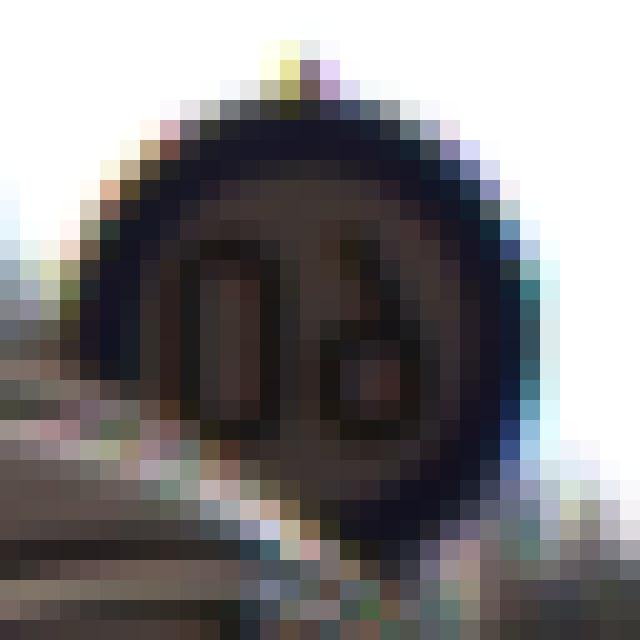SPEED-LIMIT-60: (57, 84, 546, 557)
